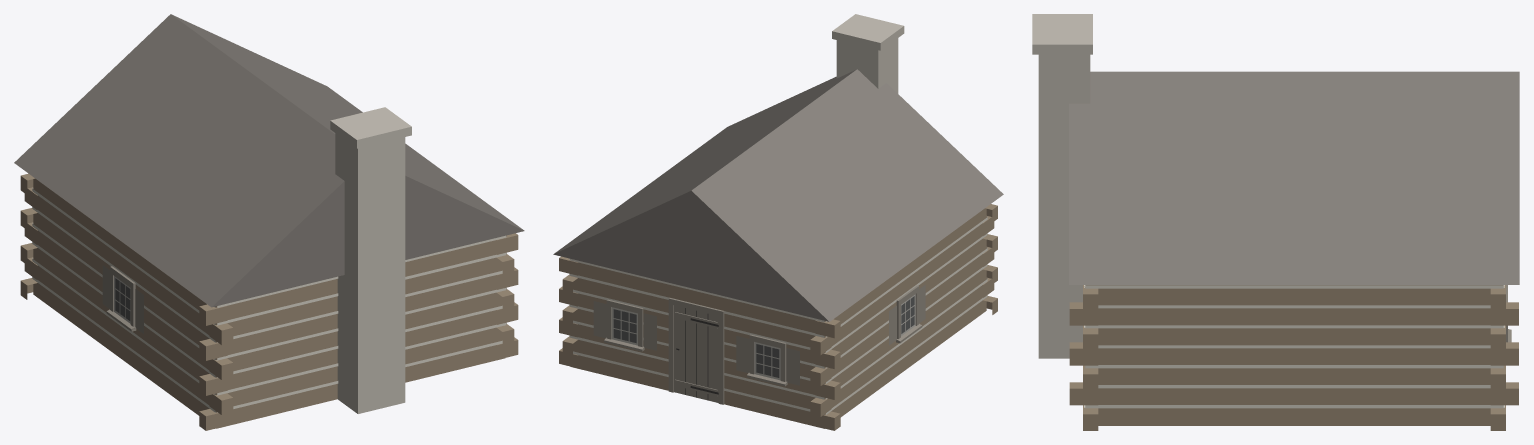
The model's file is recon_1835_blk_school_section_tier_82_d1_05__inferred_1835.glb.
3 renders of one model, left to right at view 1: azimuth 30°, elevation 25°; view 2: azimuth 150°, elevation 25°; view 3: azimuth 270°, elevation 25°, orthographic. The views are drawn at different scales.
Parts seen in each view (by area): view 1: recon_1835_blk_school_section_tier_82_d1_05__inferred_1835; view 2: recon_1835_blk_school_section_tier_82_d1_05__inferred_1835; view 3: recon_1835_blk_school_section_tier_82_d1_05__inferred_1835.
Boxes of the visible parts, box(x1,y1,x2,y2) form: recon_1835_blk_school_section_tier_82_d1_05__inferred_1835: box(14, 14, 524, 430); recon_1835_blk_school_section_tier_82_d1_05__inferred_1835: box(553, 14, 1003, 430); recon_1835_blk_school_section_tier_82_d1_05__inferred_1835: box(1032, 14, 1519, 430).
Size of the model in its own units: 6.37 by 5.39 by 7.52.
